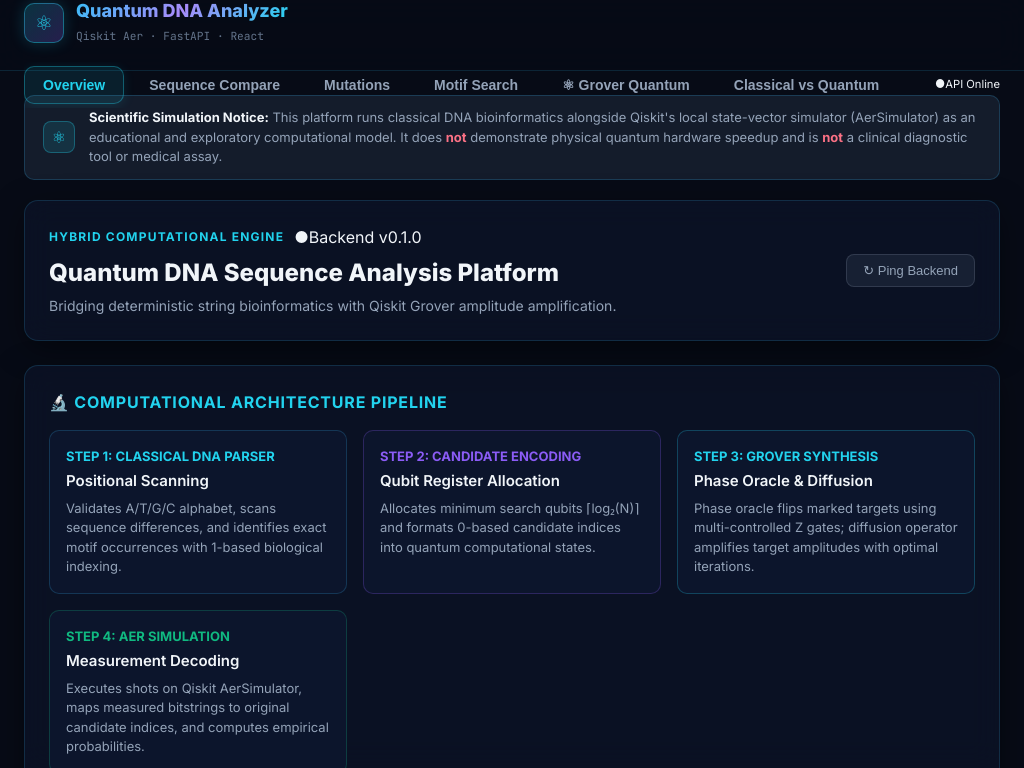
it: Quantum DNA Sequence Analyzer App Integration › executes Motif Search and displays matching positions
// Go to Motif Search tab
Click the button "Motif Search": (476, 85) [415,66,537,104]
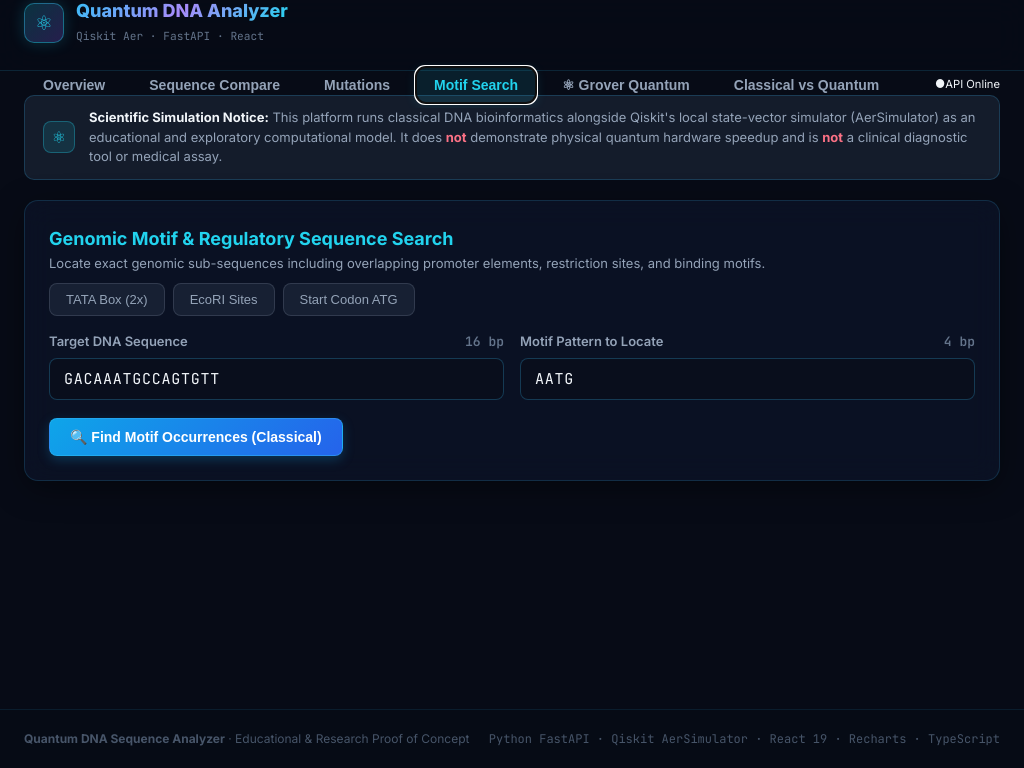
Click the button "🔍 Find Motif Occurrences (Classical)": (196, 436) [49,418,343,456]
(page scrolled)
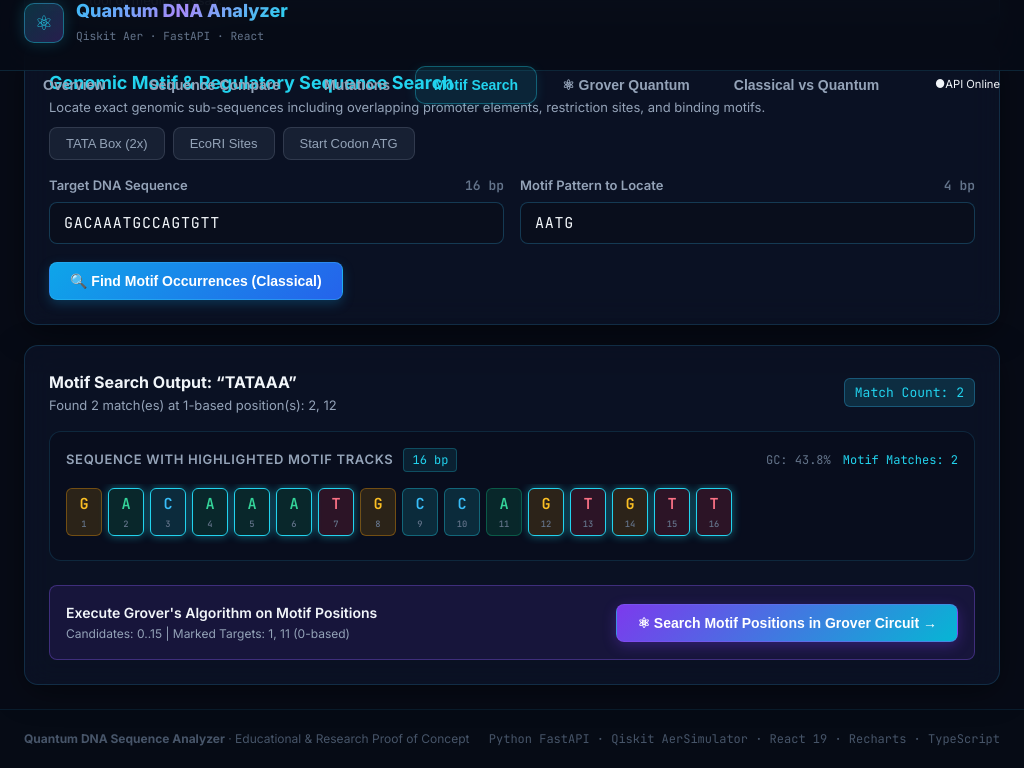
Expected: the text "Found 2 match(es) at 1-based position(s): 2, 12" is shown, [49,396,337,415]
Expected: the text "Match Count: 2" is shown, [844,378,975,407]
Expected: the button "⚛ Search Motif Positions in Grover Circuit →" is shown, [616,604,958,642]
